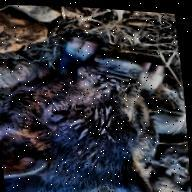boar: (0, 23, 179, 192)
